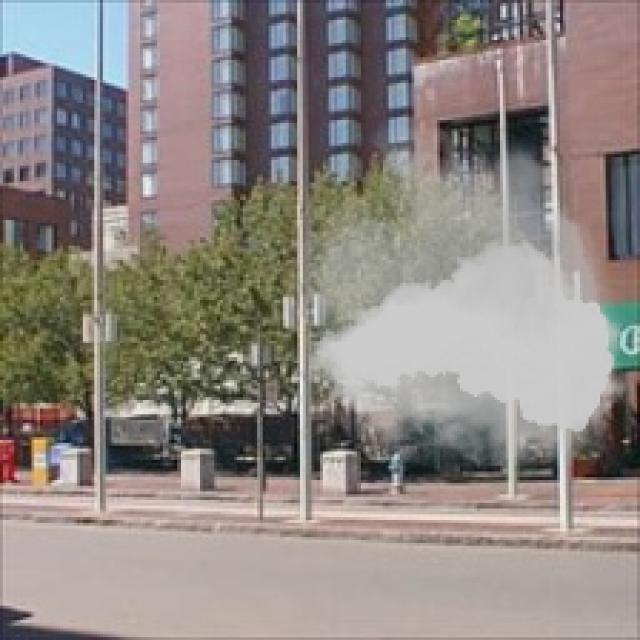Smoke: (286, 102, 638, 498)
